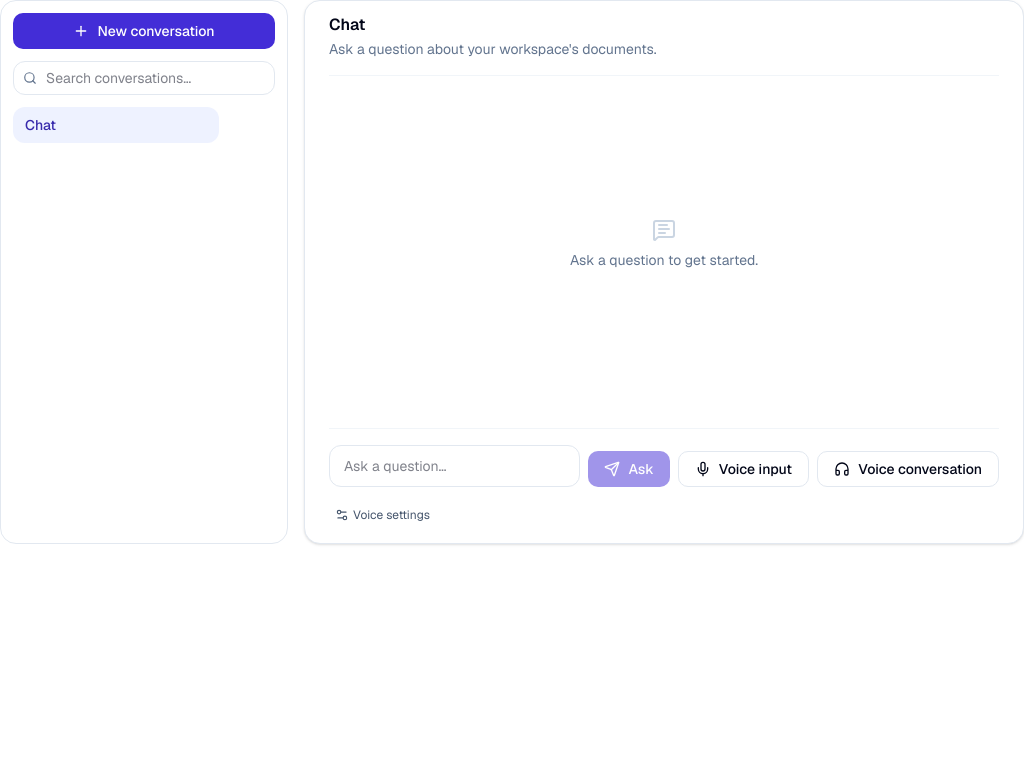
Scenario: ChatPage › restores the question and drops the bubble when the model is unavailable (503)
Step 1. Type "Explain program 5" into the field labelled "Ask a question" → (455, 466), box [329,445,580,487]
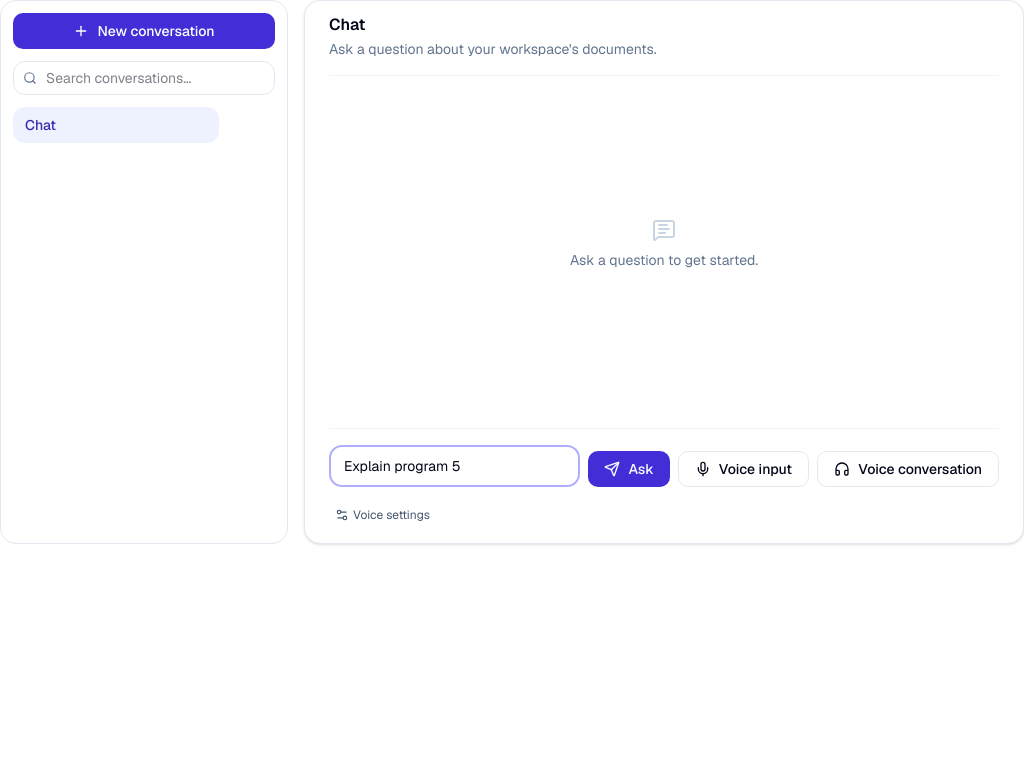
Step 2. Click the button "Ask" → (629, 469), box [588,451,670,487]
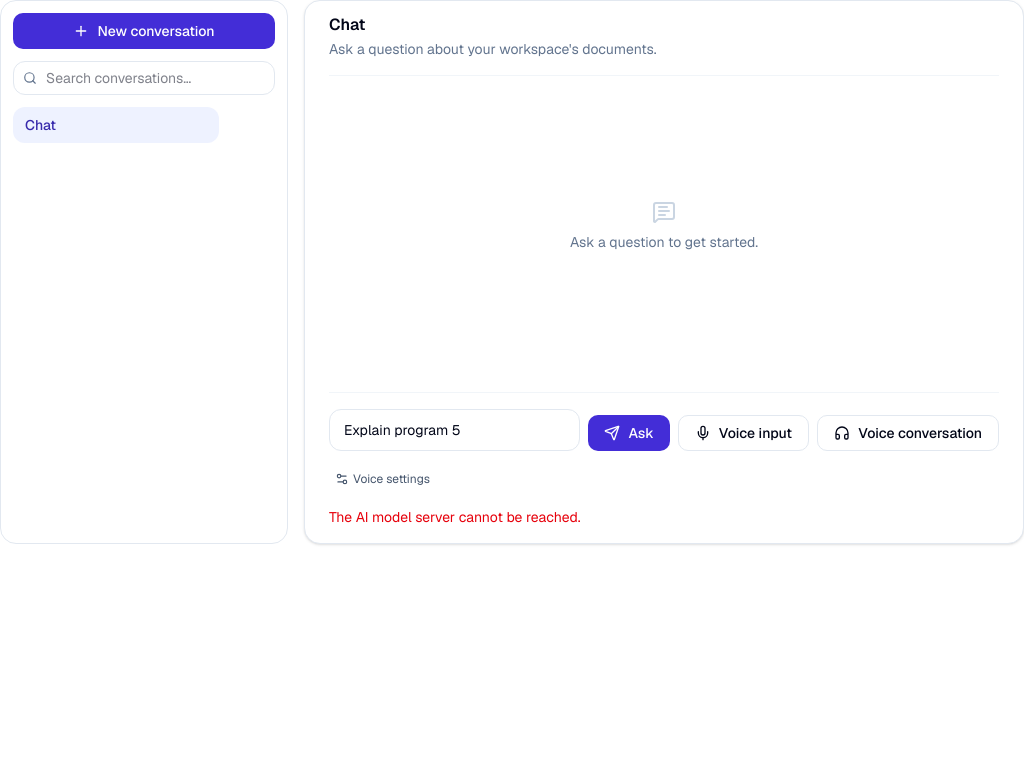
Expected: the text "Ask a question to get started." is shown, [570,232,758,252]
Now the text "The AI model server cannot be reached." is shown, box [329,508,581,526]
